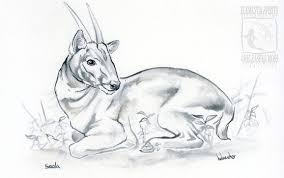sao_la: (52, 10, 233, 145)
